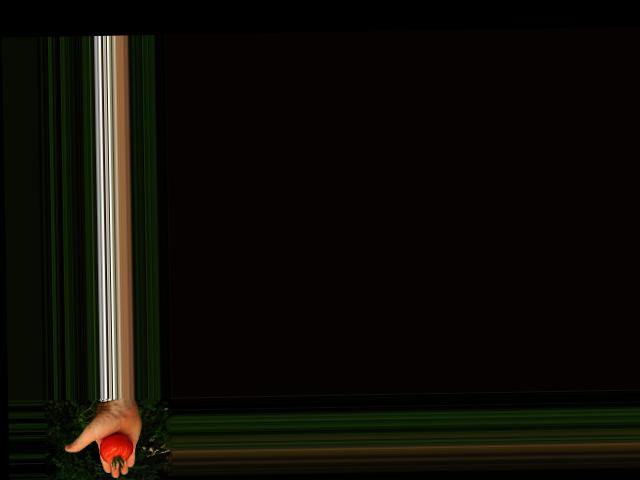tomato: (99, 432, 134, 463)
